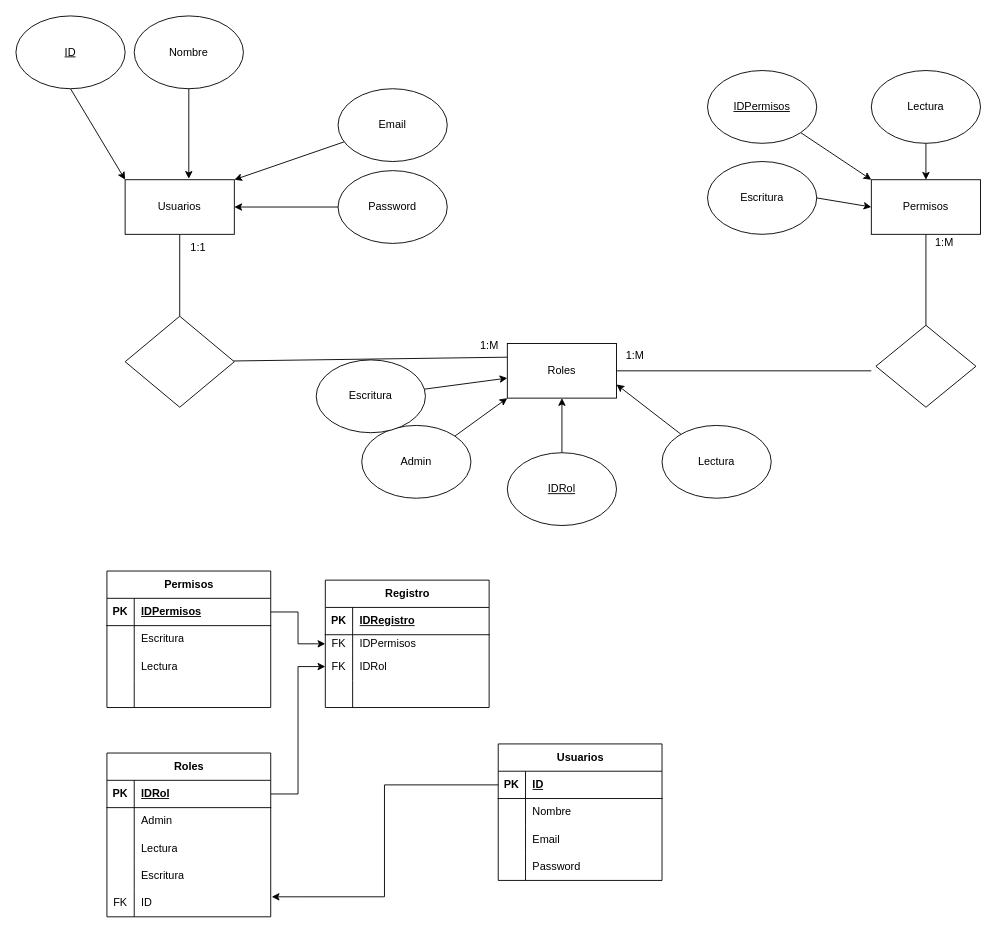
The diagram is 996 pixels wide and 933 high, and some of its shapes have lost their labels. Here are the shapes that lost their labels. From the top down, the centre of each, then its label:
At point 179,361: "Tiene".
At point 925,365: "Registra".
